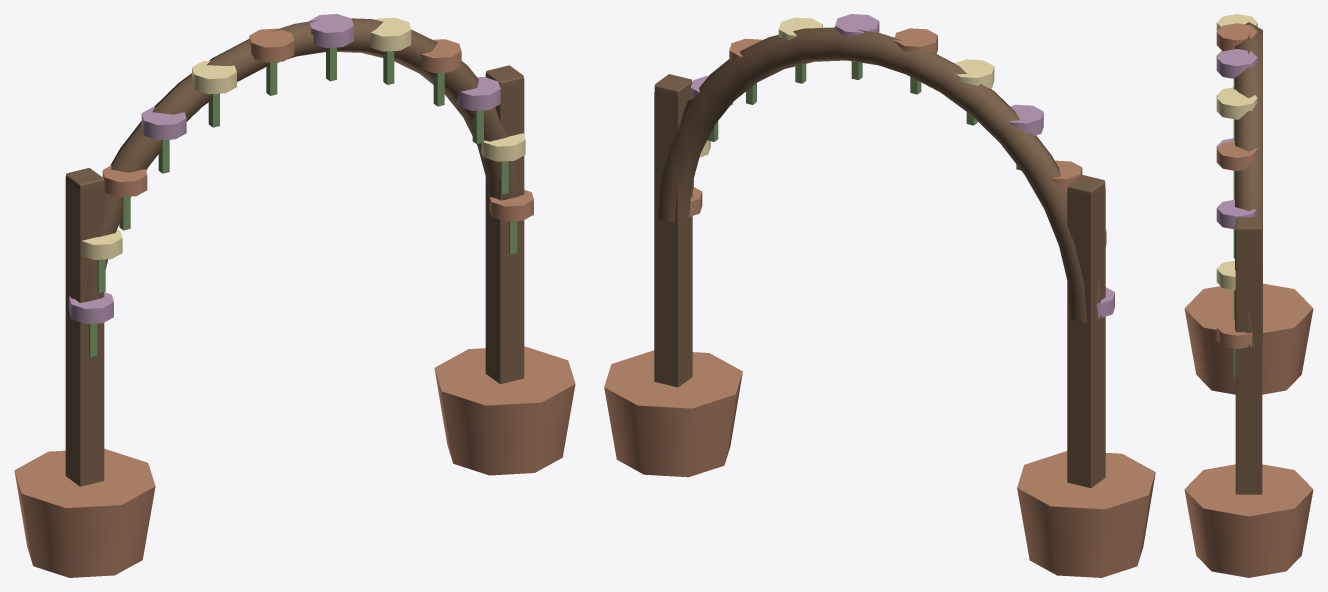
File: springarch-0.glb
3 views of the same model, side by side, from view 1: azimuth 30°, elevation 25°; view 2: azimuth 150°, elevation 25°; view 3: azimuth 270°, elevation 25° (orthographic). The views are drawn at different scales.
Visible parts, largest first — view 1: springarch-0-0; view 2: springarch-0-0; view 3: springarch-0-0.
Part boxes in pixels (x1,y1,x2,y2): springarch-0-0: (14,14,575,577); springarch-0-0: (604,14,1155,577); springarch-0-0: (1184,14,1313,577).
Size of the model in its own units: 1.9 by 1.59 by 0.44.
